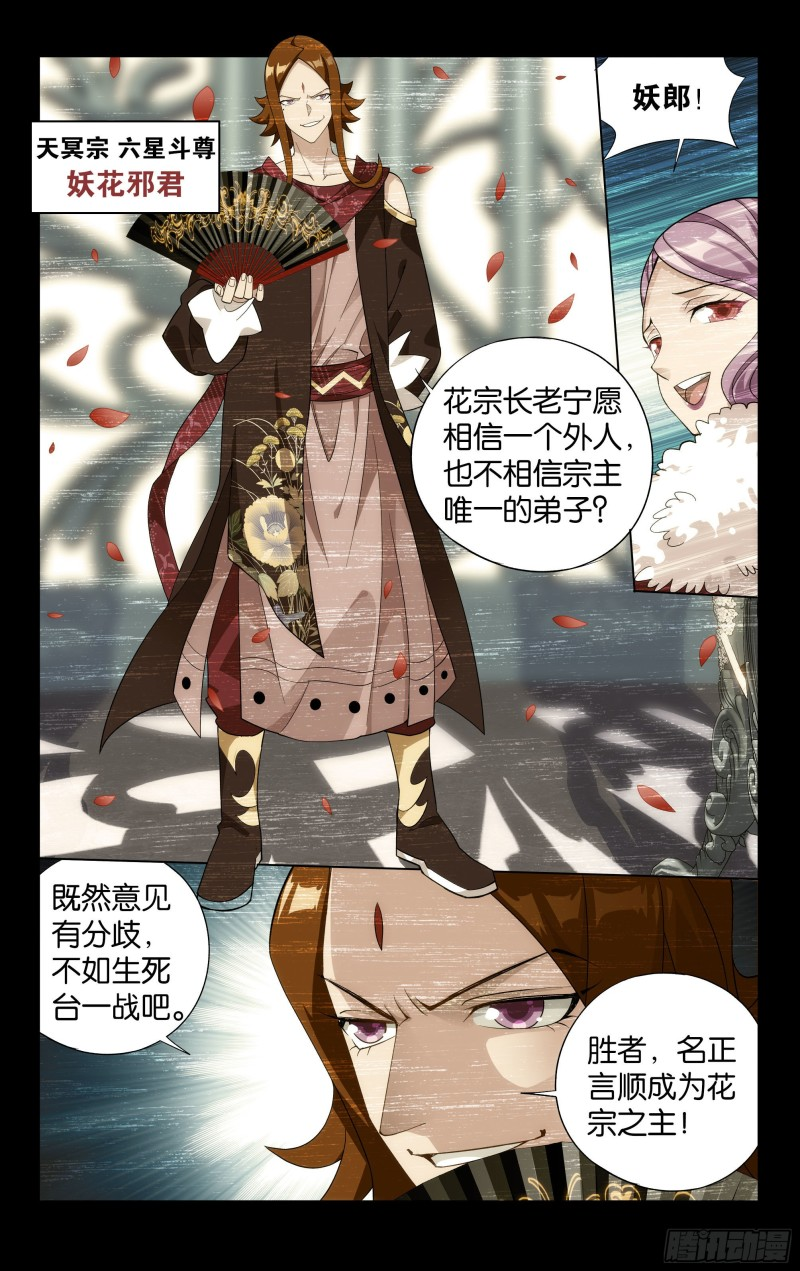boxBomb: (588, 47, 746, 167)
boxCube: (24, 116, 225, 218)
boxEllipse: (402, 332, 660, 574), (519, 967, 765, 1201), (33, 853, 211, 1067)
minBox: (33, 47, 774, 886), (24, 850, 774, 1216), (582, 41, 771, 601)
